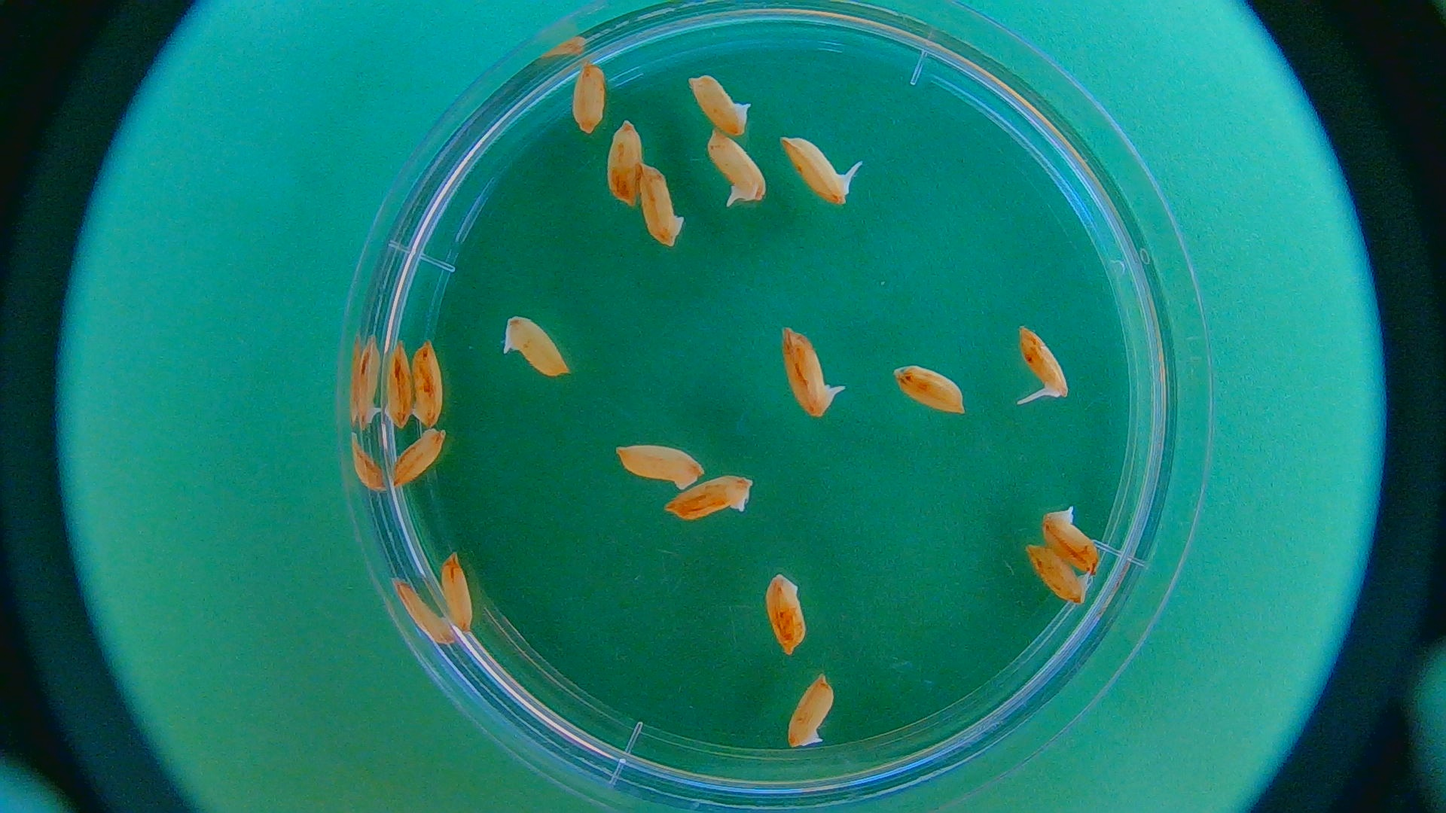no: (888, 355, 980, 425), (659, 472, 764, 530), (1011, 543, 1102, 607), (632, 160, 694, 248), (689, 59, 754, 142), (612, 435, 703, 494), (757, 568, 812, 664), (497, 315, 572, 385), (782, 668, 840, 756), (601, 114, 649, 216), (564, 53, 620, 138), (383, 427, 453, 495), (1040, 500, 1107, 569), (434, 542, 477, 633), (410, 336, 446, 430), (382, 338, 415, 428)
yes: (779, 136, 849, 209), (783, 329, 834, 416), (1014, 324, 1069, 399), (710, 133, 769, 200)
